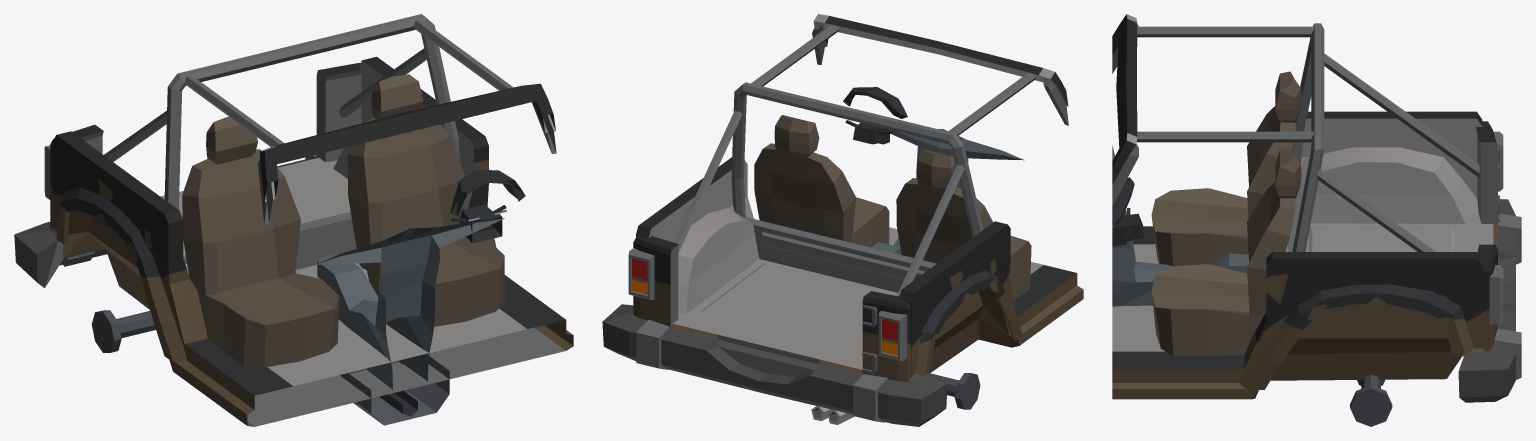
File: jeep 1.fbx
3 renders of one model, left to right at view 1: azimuth 30°, elevation 25°; view 2: azimuth 150°, elevation 25°; view 3: azimuth 270°, elevation 25°, orthographic. The views are drawn at different scales.
Parts seen in each view (by area): view 1: SK_Veh_4x4_Car_Alt_01_positive; view 2: SK_Veh_4x4_Car_Alt_01_positive; view 3: SK_Veh_4x4_Car_Alt_01_positive.
Boxes of the visible parts, x1,y1,x2,y2 form: SK_Veh_4x4_Car_Alt_01_positive: (14,14,573,426); SK_Veh_4x4_Car_Alt_01_positive: (602,14,1083,426); SK_Veh_4x4_Car_Alt_01_positive: (1112,14,1521,426).
Bounding box in the file's own units: 220 × 171 × 219.
